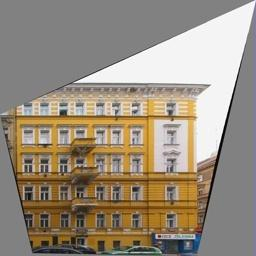building: (7, 78, 211, 255)
